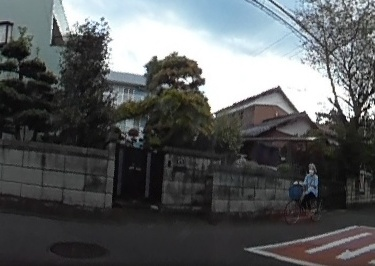person: (300, 161, 320, 212)
